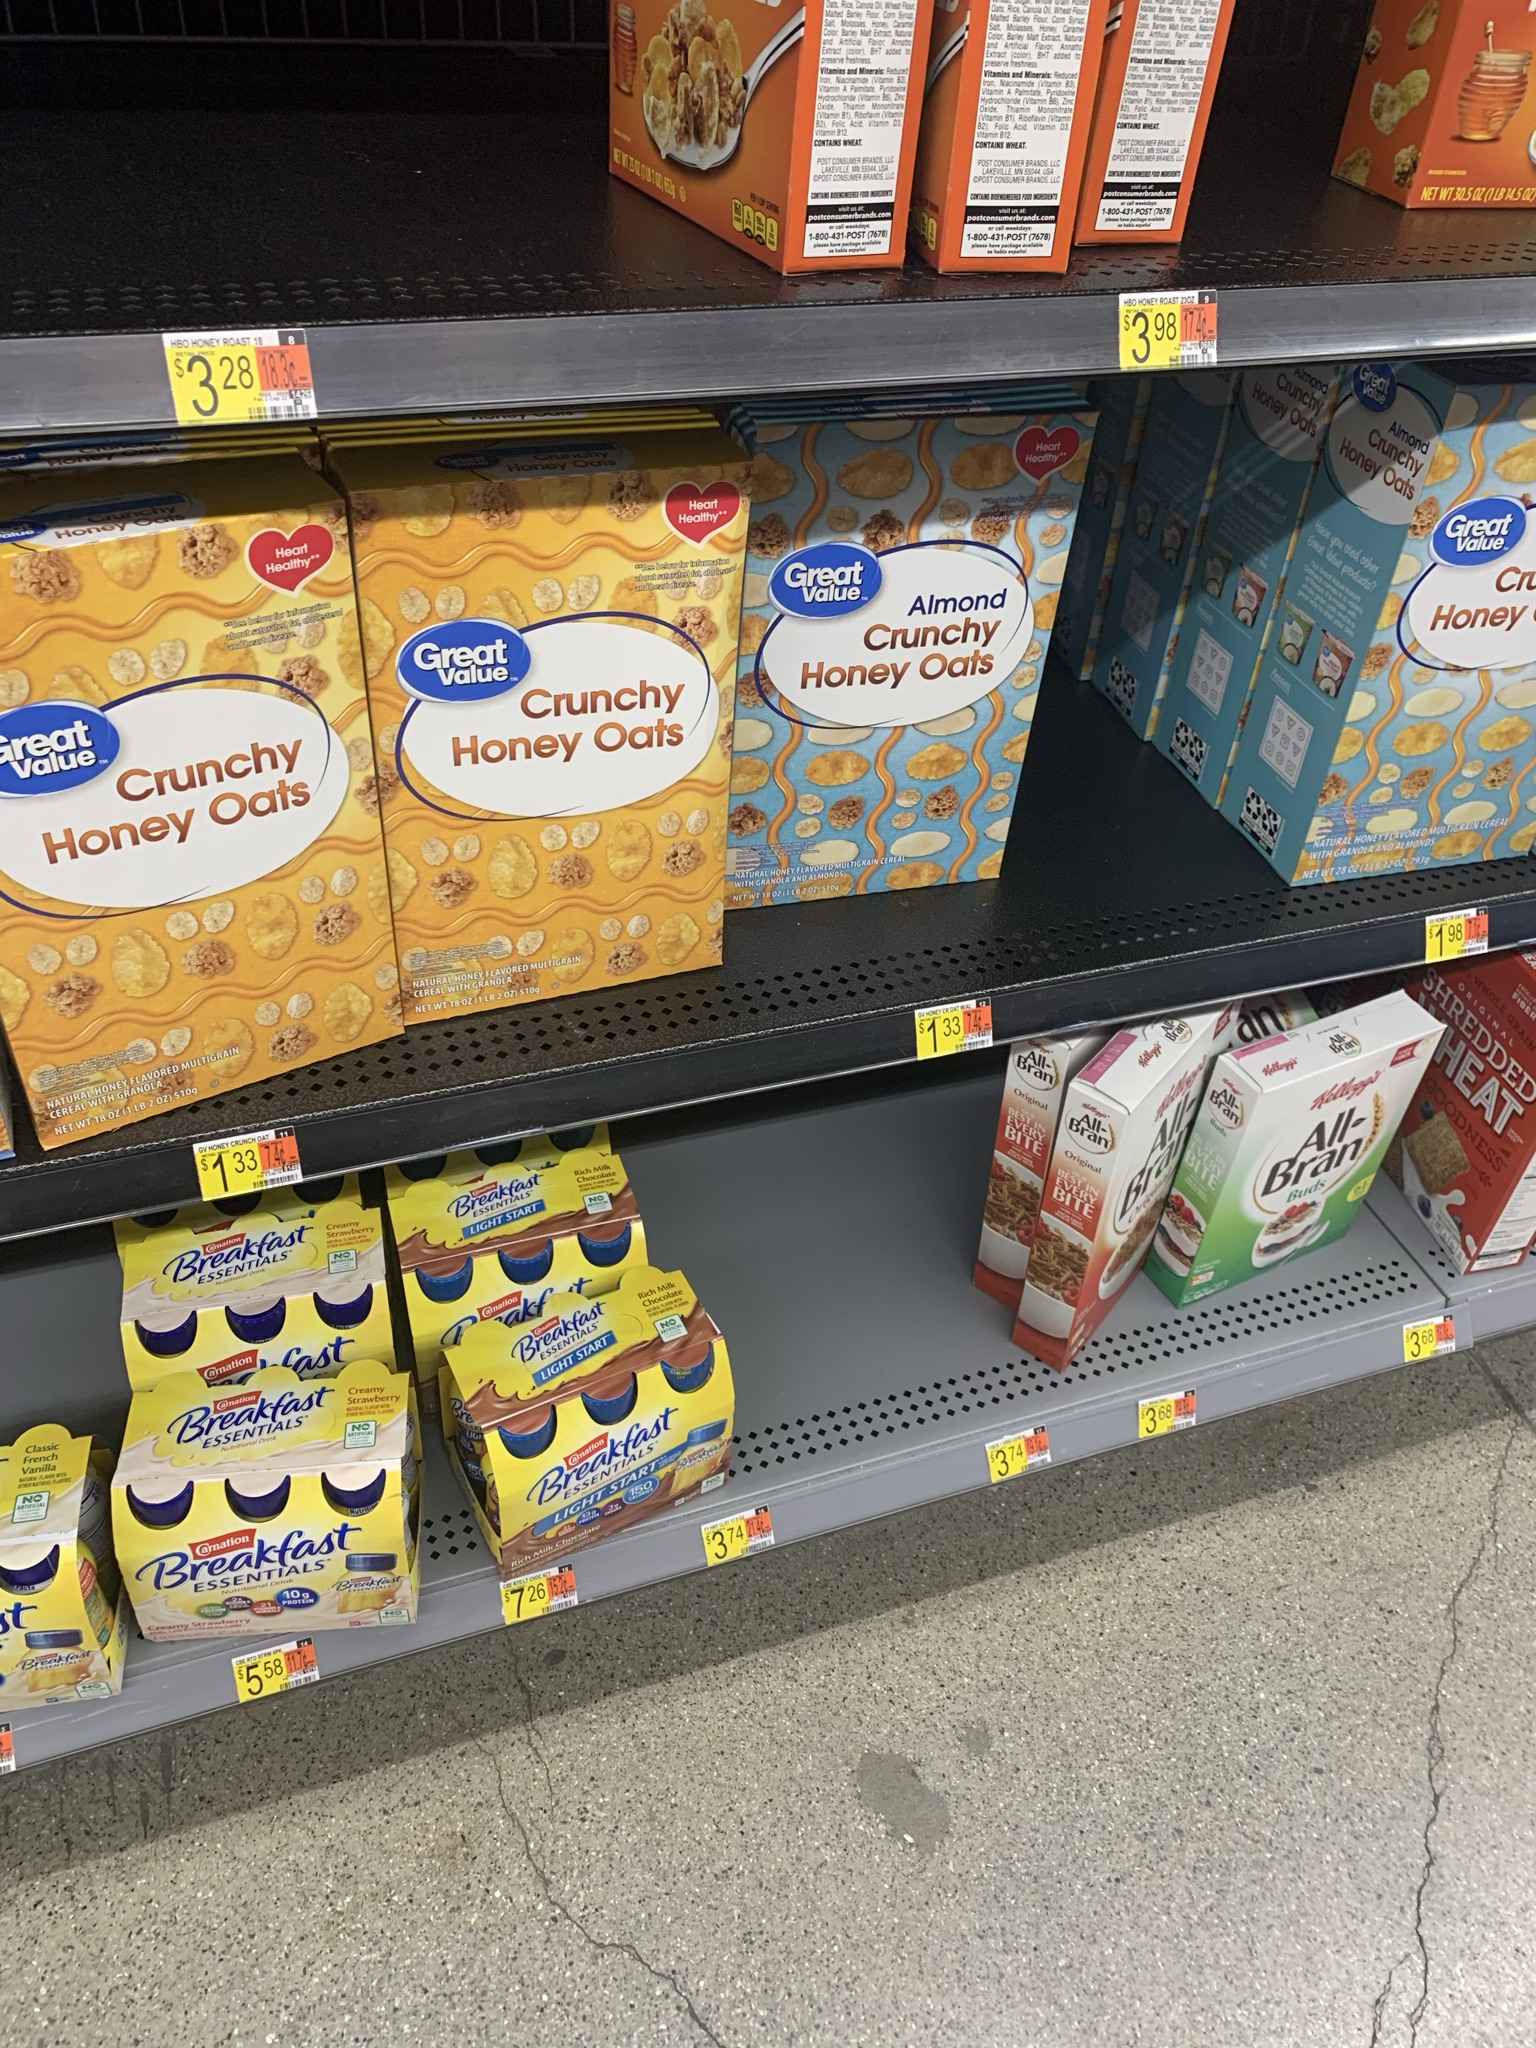box: (8, 531, 345, 1076), (390, 498, 716, 961), (768, 455, 1010, 847), (1362, 498, 1536, 853), (1234, 1074, 1363, 1227)
